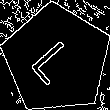L_NE: (28, 31, 85, 87)
